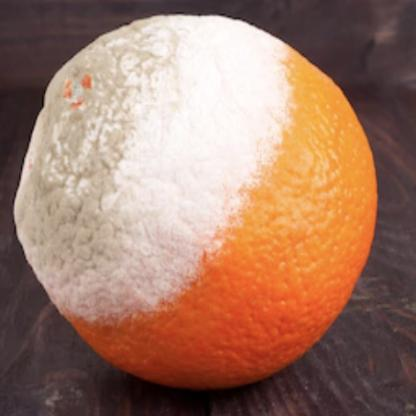rotten: (14, 12, 381, 393)
